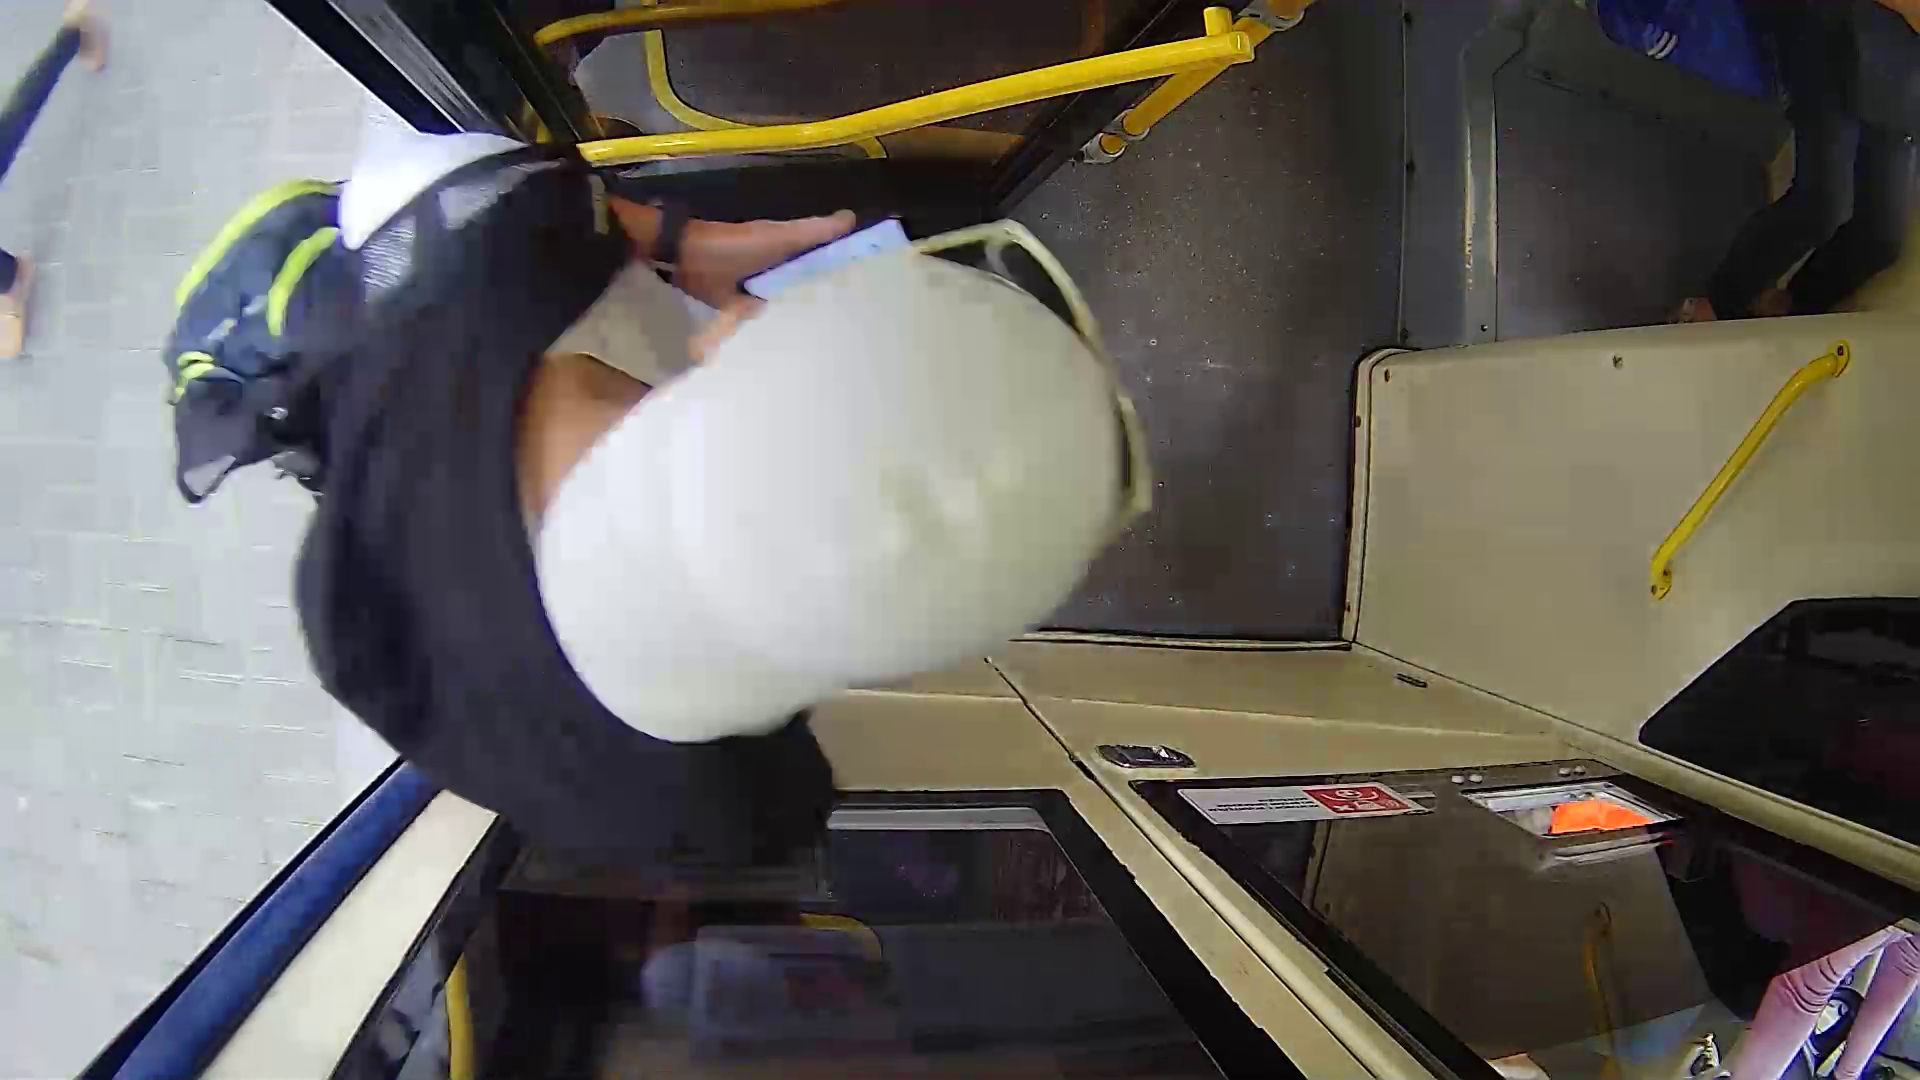person: (183, 132, 1195, 838)
